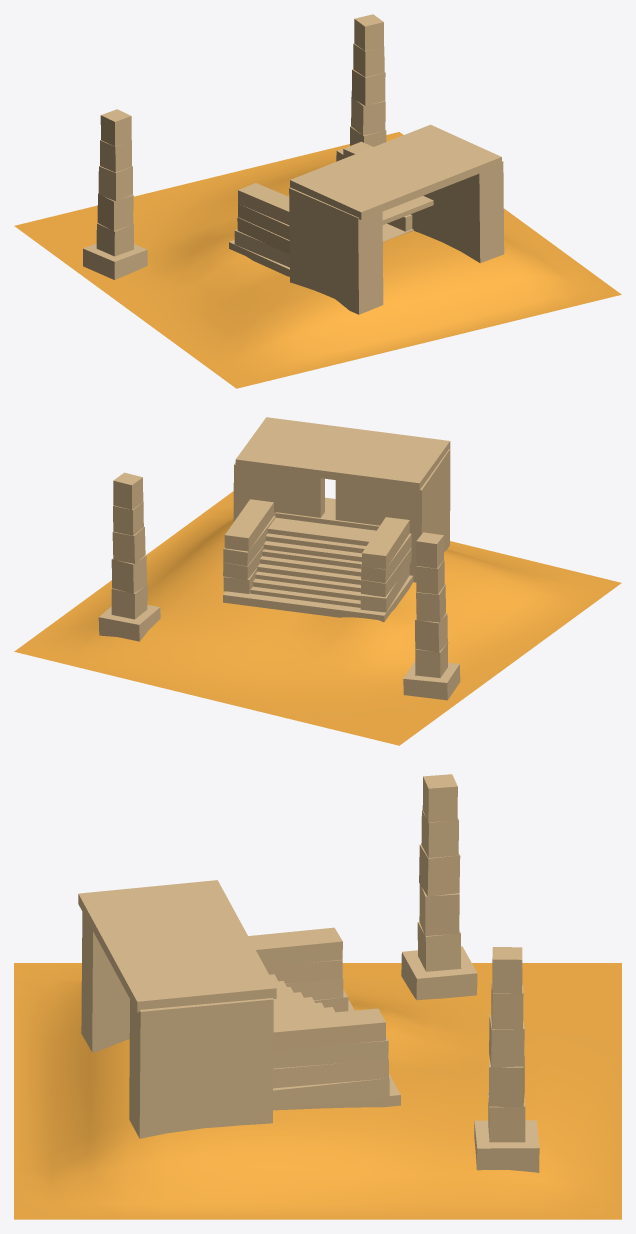
Rendered from tomb1.fbx.
3 renders of one model, top to bottom at view 1: azimuth 30°, elevation 25°; view 2: azimuth 150°, elevation 25°; view 3: azimuth 270°, elevation 25°, orthographic. The views are drawn at different scales.
Parts seen in each view (by area): view 1: tomb1; view 2: tomb1; view 3: tomb1.
Boxes of the visible parts, x1,y1,x2,y2 form: tomb1: (14, 14, 621, 388); tomb1: (14, 417, 621, 745); tomb1: (14, 774, 621, 1219).
Size of the model in its own units: 2 by 0.8095 by 2.
